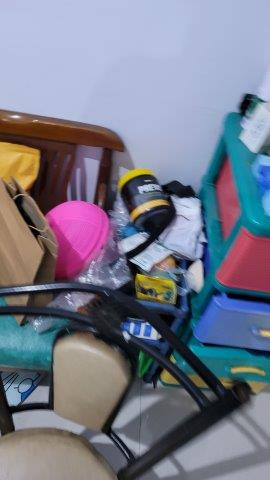plastik: (52, 237, 133, 313)
